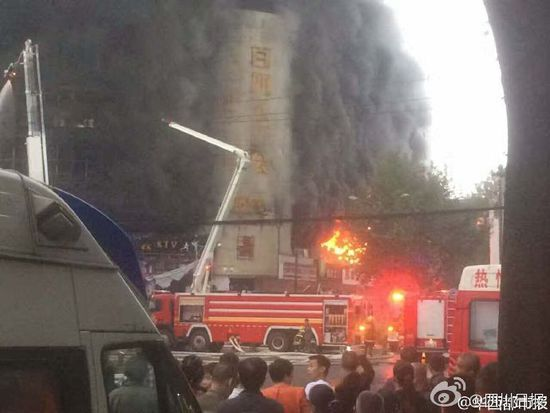fire: (316, 215, 382, 265)
